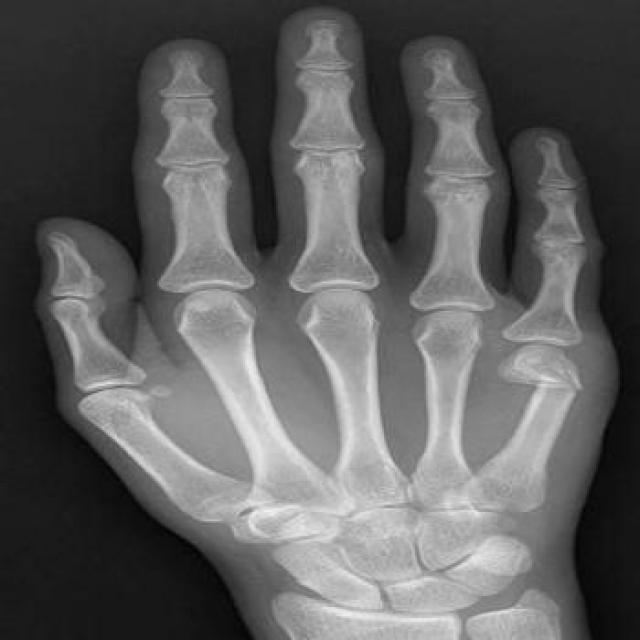Fracture: (491, 364, 588, 406)
